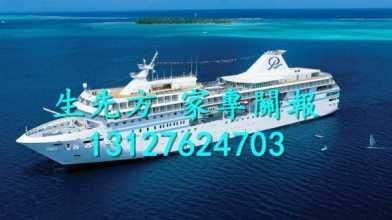youlun: (17, 49, 348, 164)
